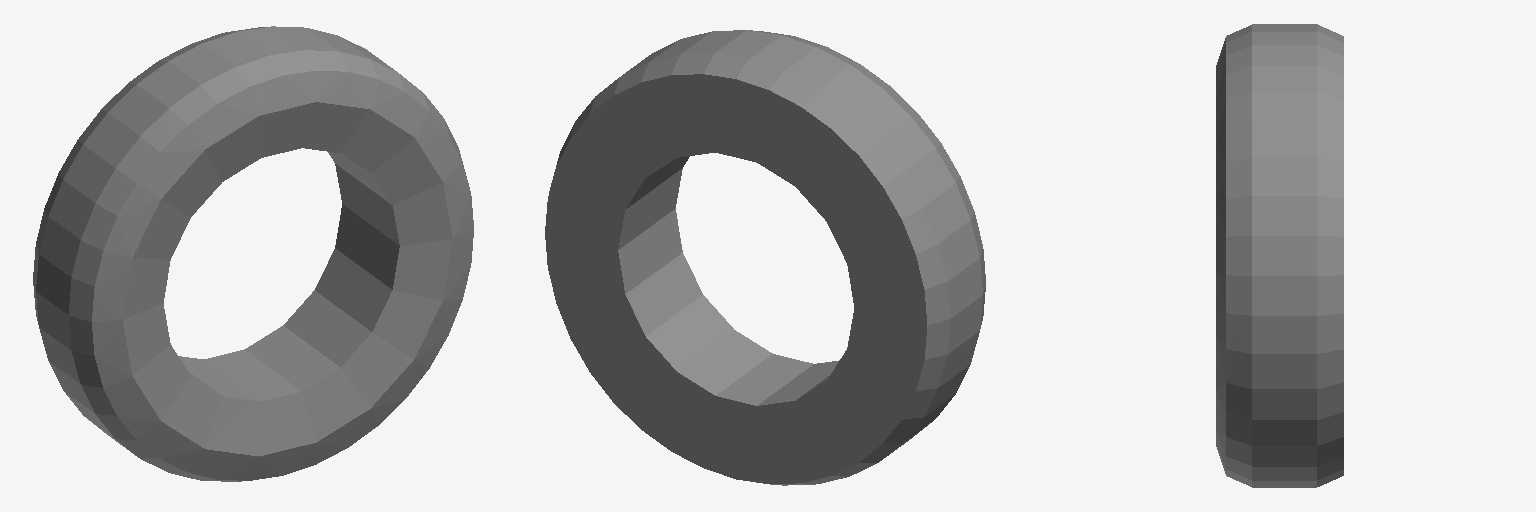
File: Roue4.obj
3 views of the same model, side by side, from view 1: azimuth 30°, elevation 25°; view 2: azimuth 150°, elevation 25°; view 3: azimuth 270°, elevation 25° (orthographic).
Parts seen in each view (by area): view 1: Roue4; view 2: Roue4; view 3: Roue4.
Part boxes in pixels (bbox=[...]): Roue4: bbox=[33, 26, 473, 481]; Roue4: bbox=[545, 30, 985, 485]; Roue4: bbox=[1216, 24, 1343, 487].
Size of the model in its own units: 2.53 by 2.53 by 0.6938.